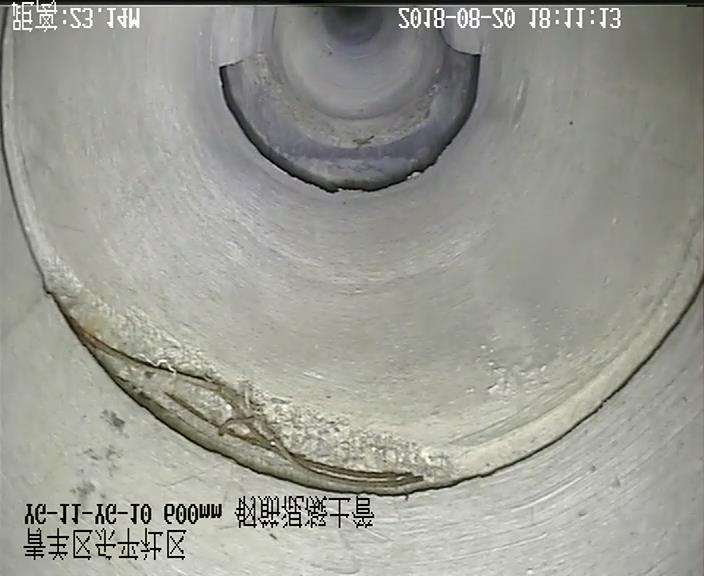CKTJ: (0, 10, 703, 496)
JKCL: (54, 312, 446, 498)
